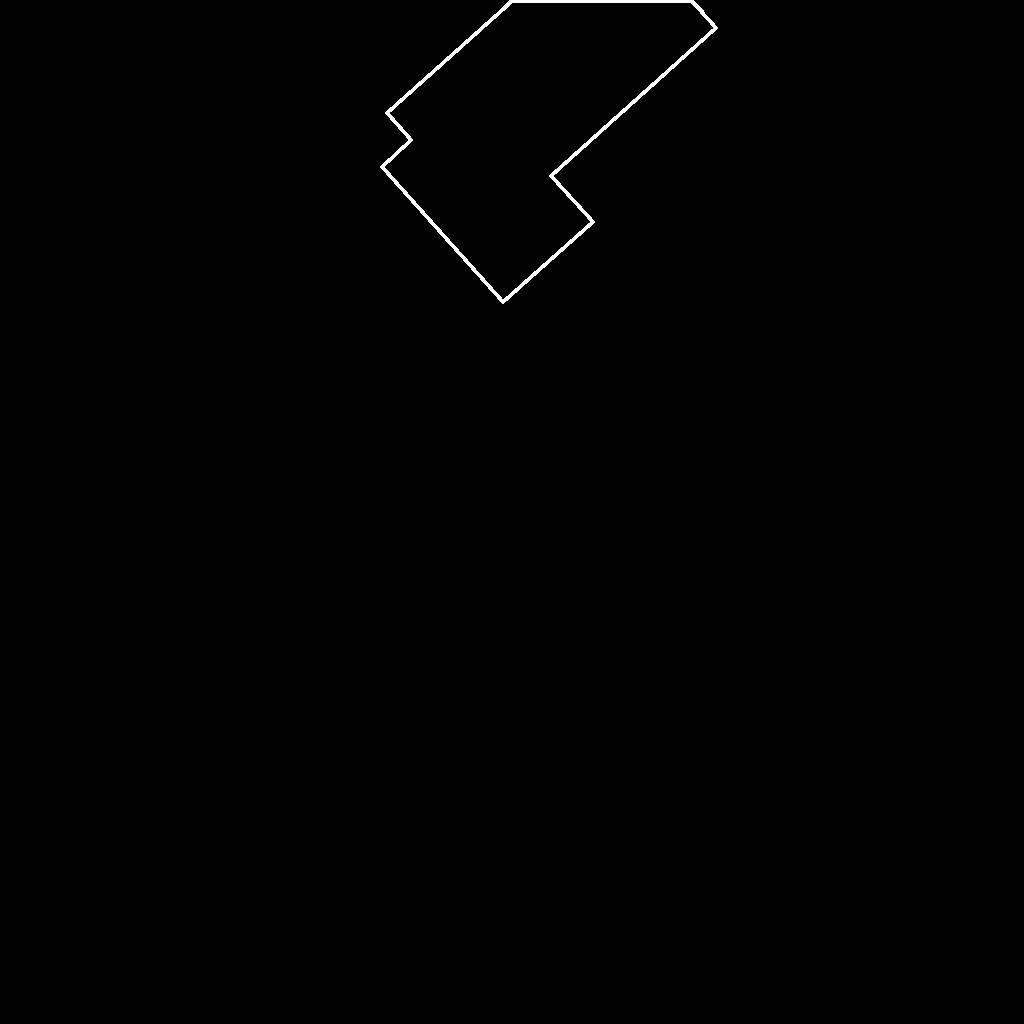building: (382, 0, 717, 303)
